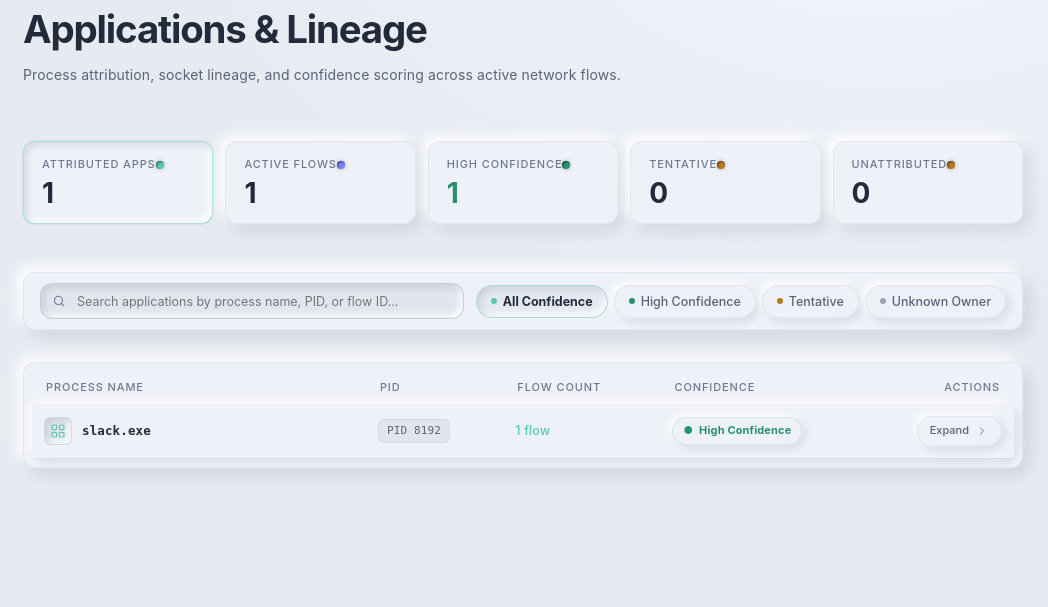
Apps Screen & useAppsController › renders summary KPIs, process table, and allows row expansion to inspect flows
Expected: the text "Attributed Apps" is shown, [42,156,156,173]
Expected: the text "slack.exe" is shown, [82,421,151,441]
Step 1. Click the button with aria-label "Expand slack.exe" → point(959, 431), box [917,416,1002,446]
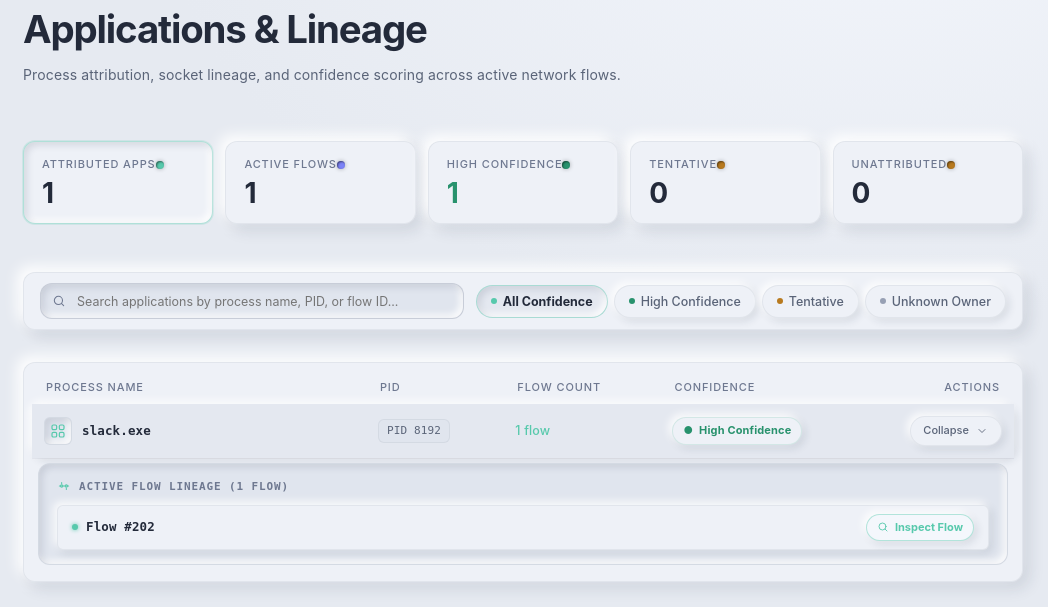
Now the text "Flow #202" is shown, box [72,517,155,537]
Now the button "Inspect Flow" is shown, box [866,514,974,541]
